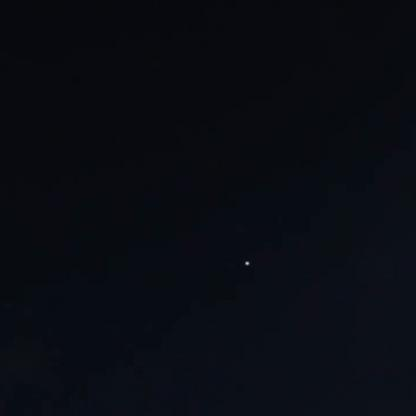ball: (242, 256, 254, 271)
